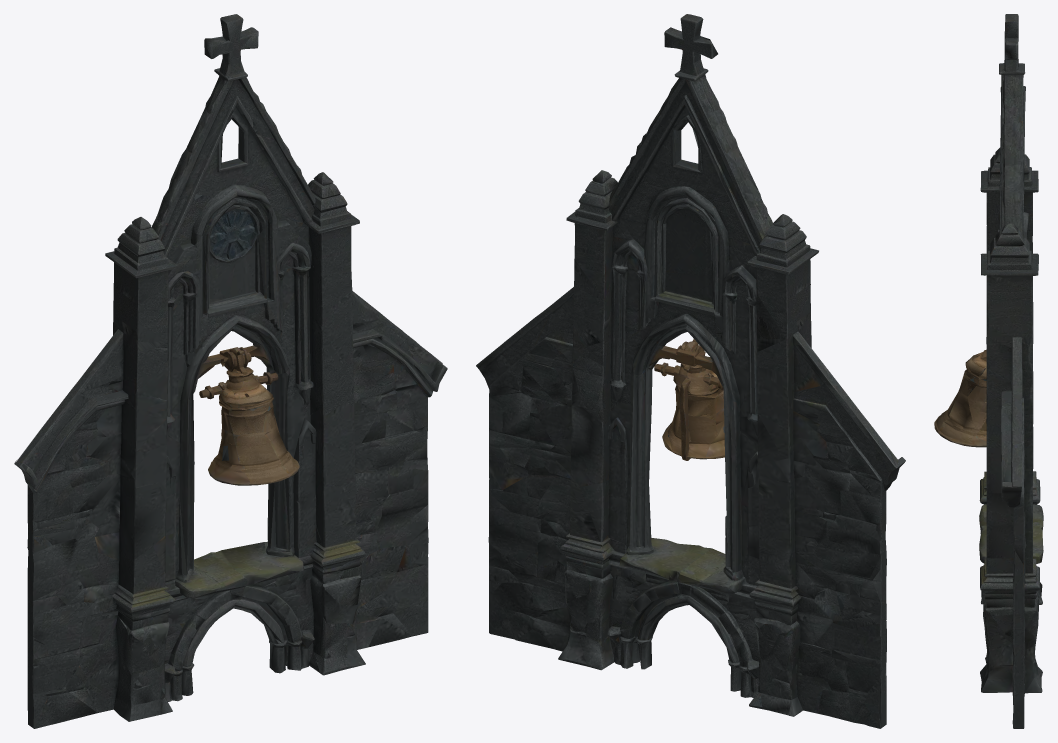
File: mx_pr_bell_tower.glb
The picture shows the model from 3 angles, left to right: view 1: azimuth 30°, elevation 25°; view 2: azimuth 150°, elevation 25°; view 3: azimuth 270°, elevation 25°; orthographic projection. The views are drawn at different scales.
Size of the model in its own units: 1.27 by 1.9 by 0.3033.
1 material, 1 textured.
